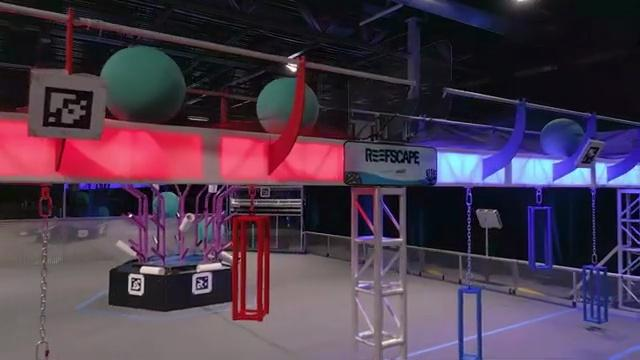ALGAE: (99, 44, 186, 123), (257, 76, 318, 136), (540, 119, 584, 158)
